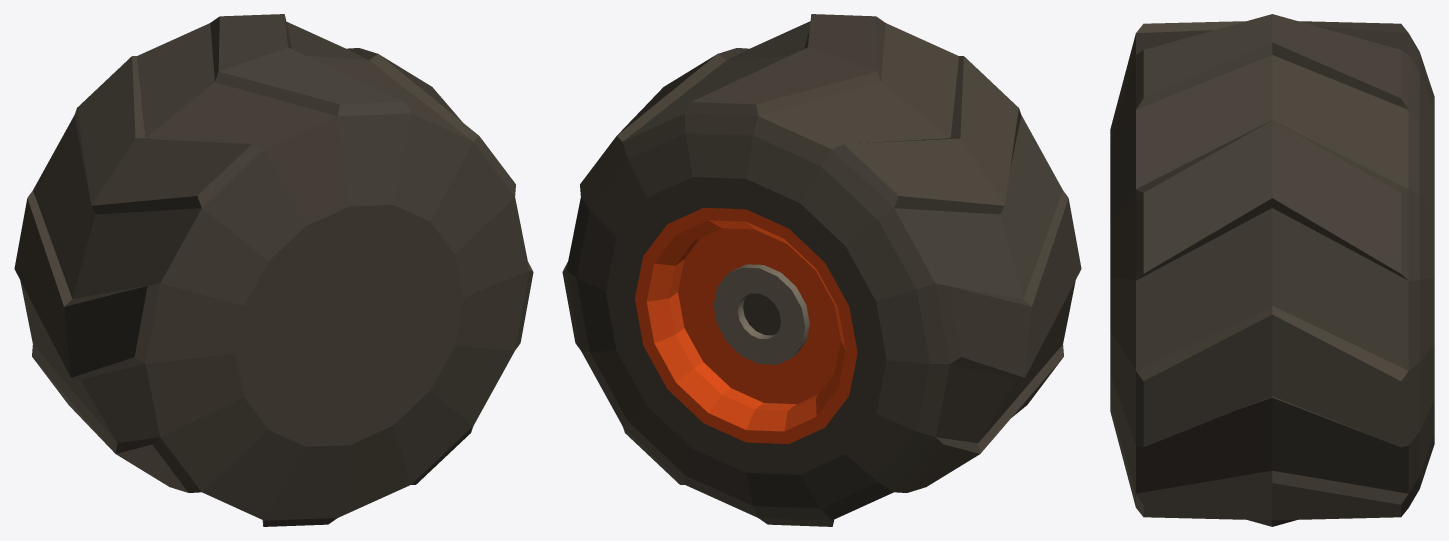
Rendered from wheel.glb.
3 views of the same model, side by side, from view 1: azimuth 30°, elevation 25°; view 2: azimuth 150°, elevation 25°; view 3: azimuth 270°, elevation 25° (orthographic). The views are drawn at different scales.
Visible parts, largest first — view 1: wheel; view 2: wheel; view 3: wheel.
Boxes of the visible parts, x1,y1,x2,y2 form: wheel: [14, 14, 533, 526]; wheel: [562, 14, 1081, 526]; wheel: [1110, 14, 1434, 526].
Size of the model in its own units: 0.8634 by 0.8634 by 0.5392.
